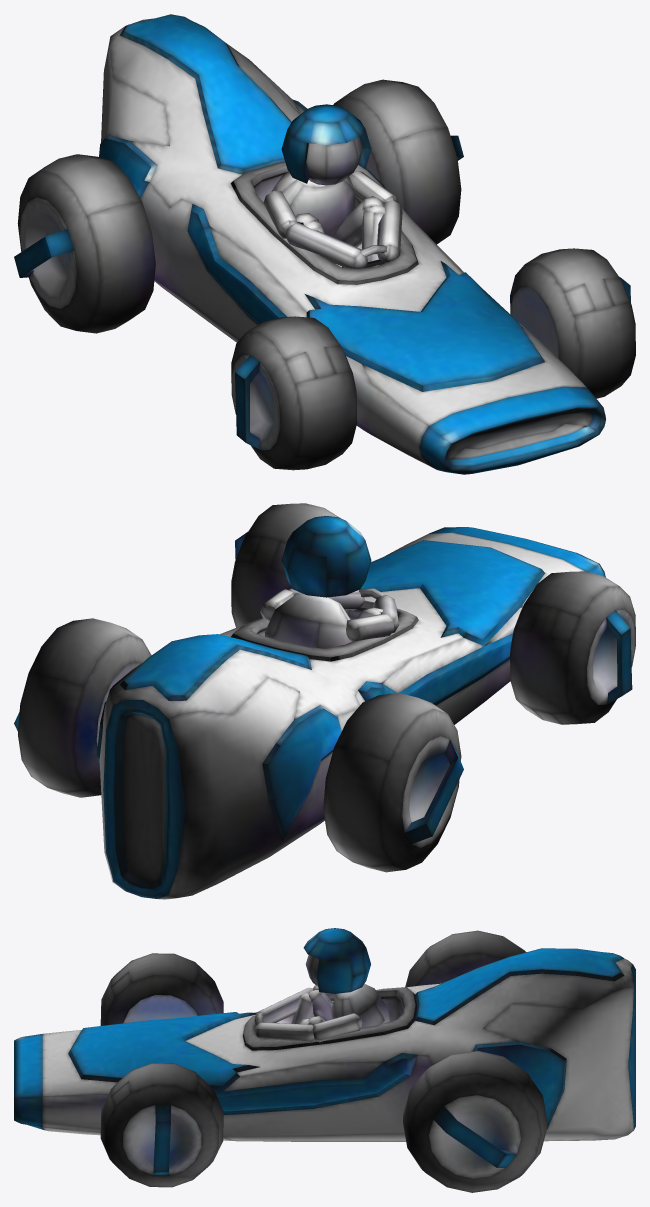
File: car1.obj
3 renders of one model, top to bottom at view 1: azimuth 30°, elevation 25°; view 2: azimuth 150°, elevation 25°; view 3: azimuth 270°, elevation 25°, orthographic. The views are drawn at different scales.
Parts seen in each view (by area): view 1: full_baked; view 2: full_baked; view 3: full_baked.
Part boxes in pixels (bbox=[...]): full_baked: bbox=[14, 14, 635, 474]; full_baked: bbox=[14, 503, 635, 899]; full_baked: bbox=[14, 928, 635, 1192].
Bounding box in the file's own units: 24.18 × 13.7 × 39.1.
Materials: 1 (1 with a texture image).
